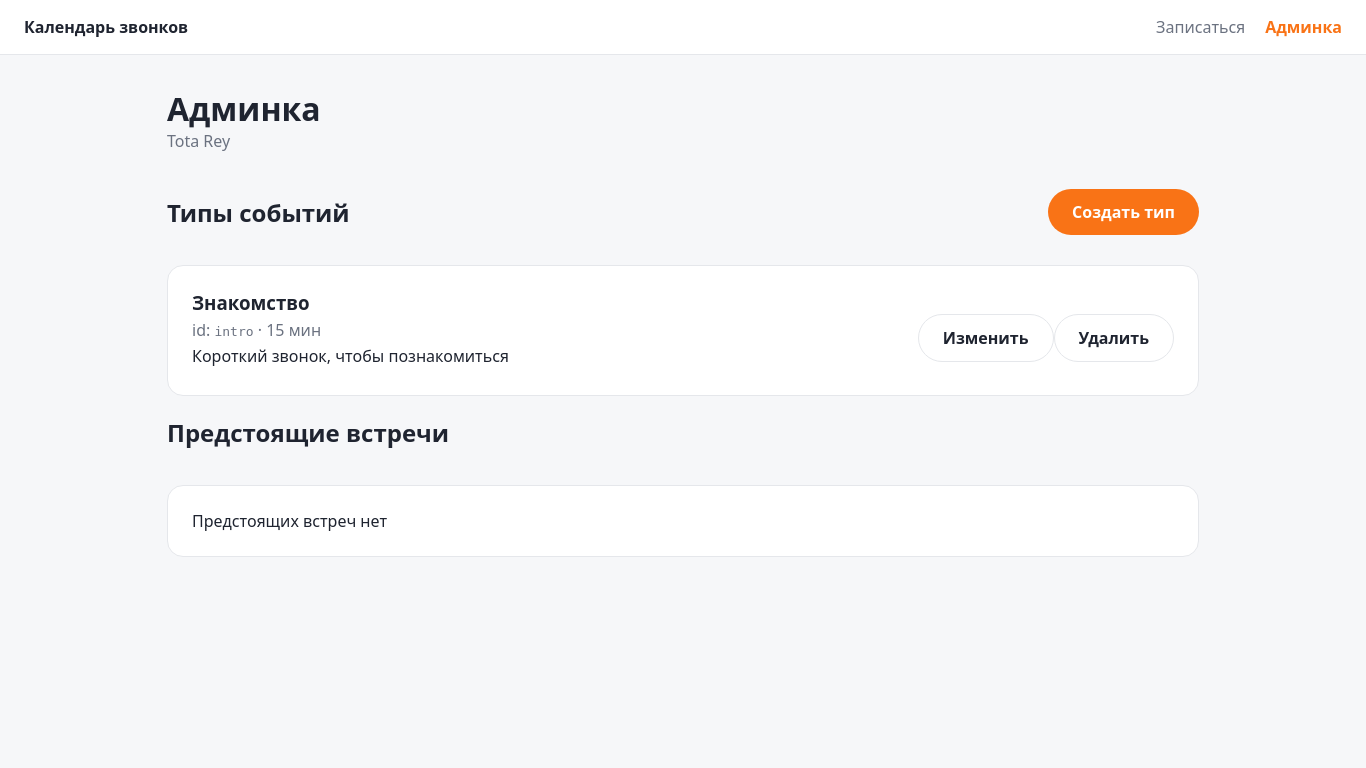
Test: admin event types › says "Тип не найден" and reloads on 404 while deleting
Click the button with aria-label "Удалить Знакомство".
click(1114, 338)  # box [1054,314,1174,362]
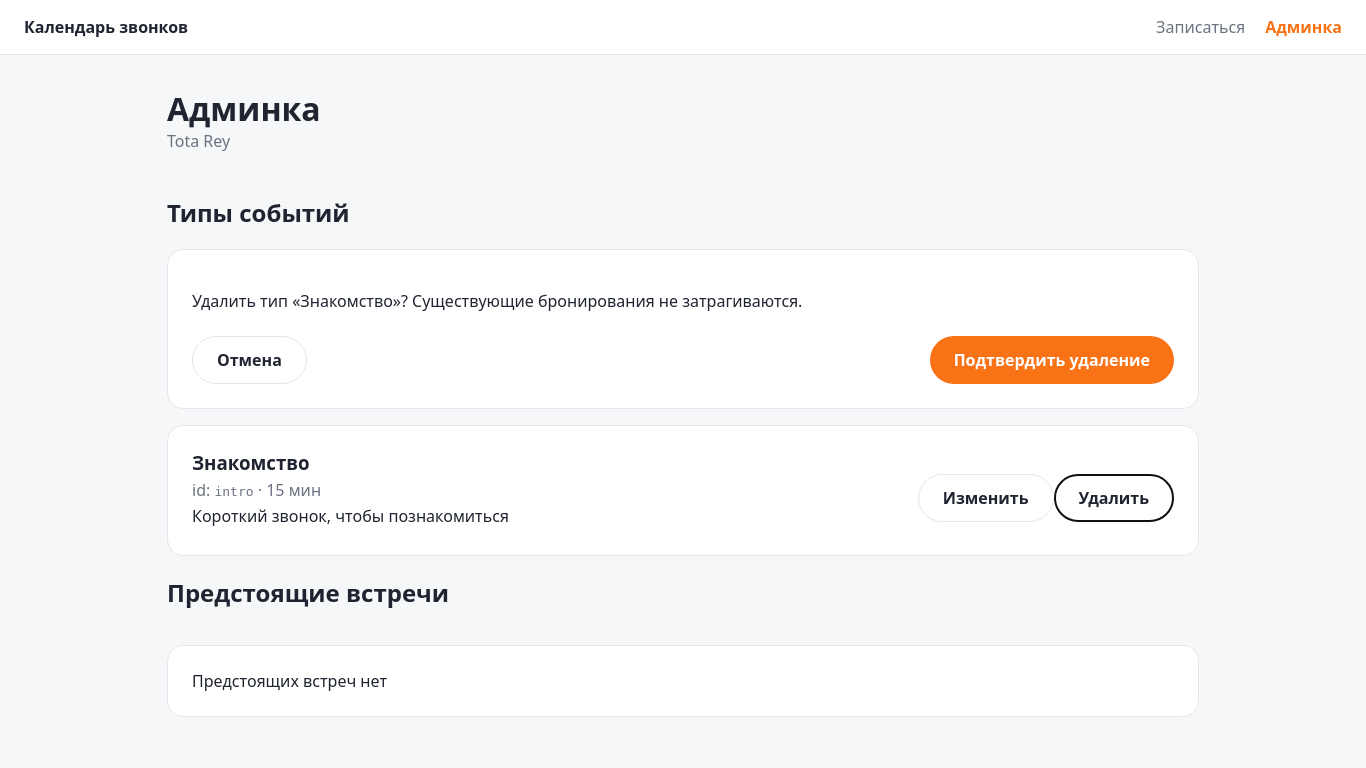
Click the button "Подтвердить удаление".
click(1052, 360)  # box [930,336,1174,384]
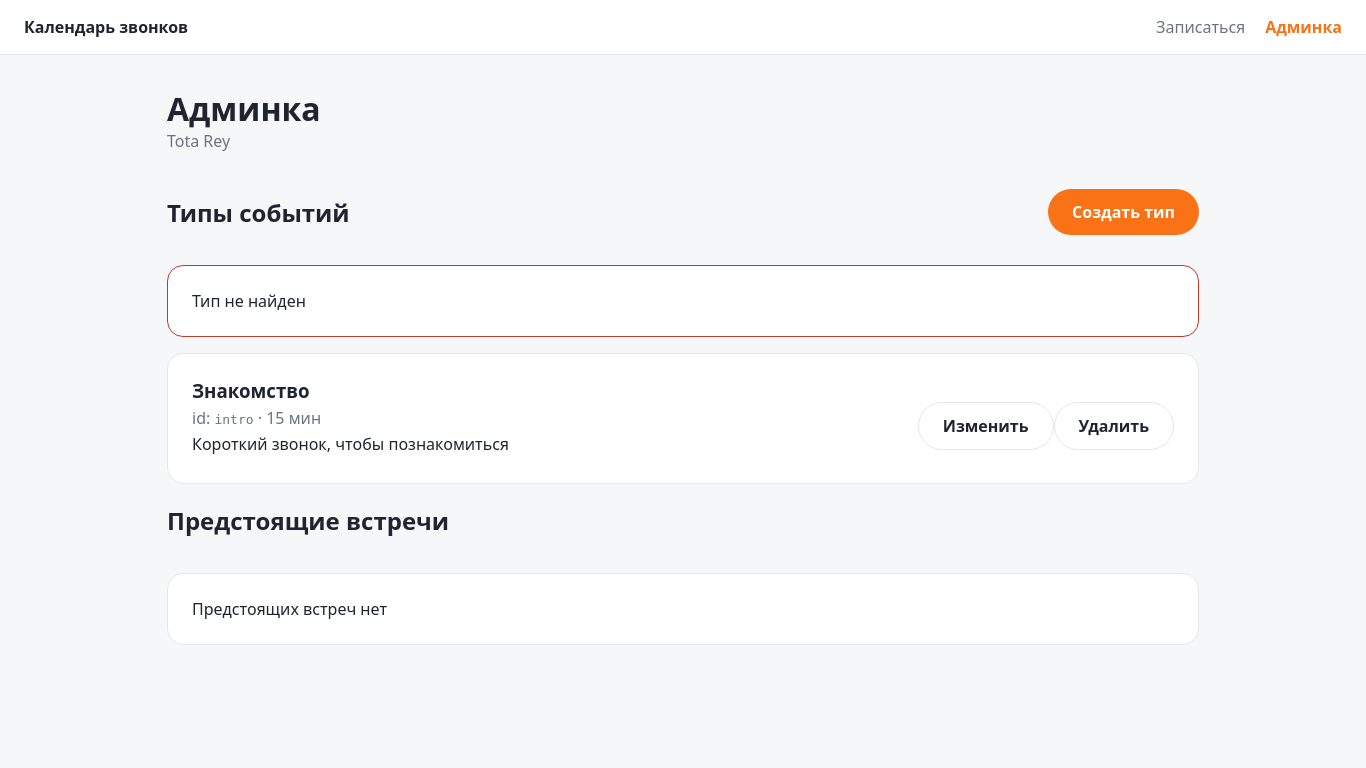
Expected: the message reads "Тип не найден", [192,290,306,312]
